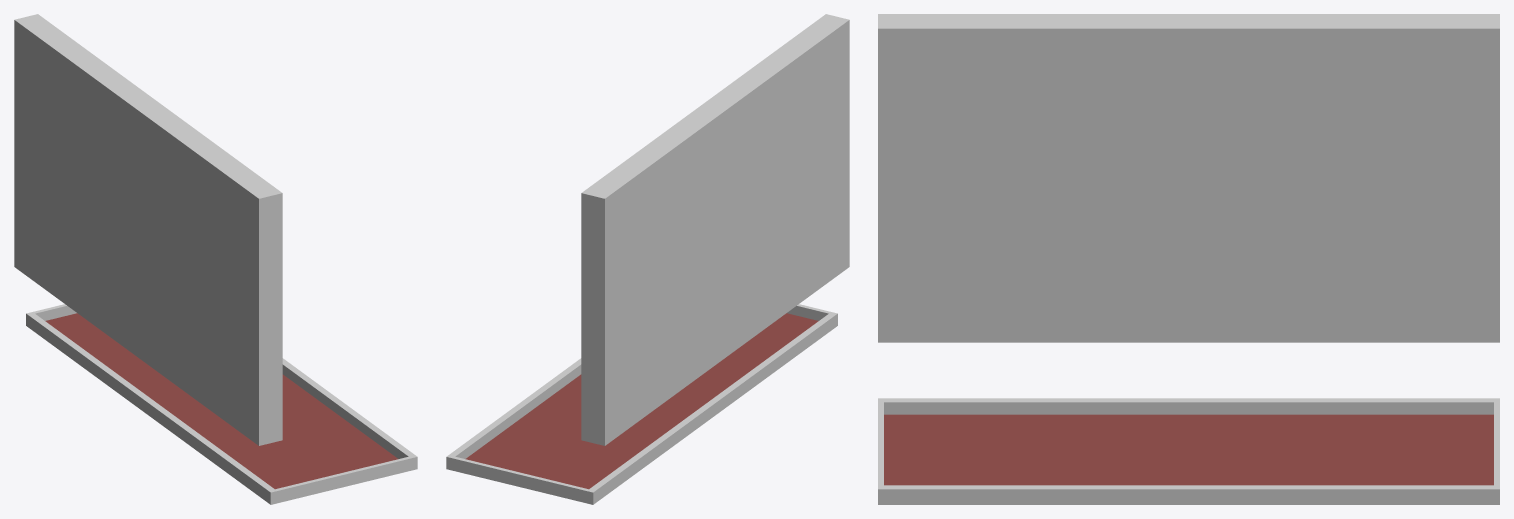
File: WallGunShop.fbx
3 views of the same model, side by side, from view 1: azimuth 30°, elevation 25°; view 2: azimuth 150°, elevation 25°; view 3: azimuth 270°, elevation 25° (orthographic). The views are drawn at different scales.
Parts seen in each view (by area): view 1: WallShop; view 2: WallShop; view 3: WallShop.
Boxes of the visible parts, <box> form: WallShop: <box>14,14,417,504</box>; WallShop: <box>446,14,849,504</box>; WallShop: <box>878,14,1499,504</box>.
Size of the model in its own units: 134 by 250 by 359.
